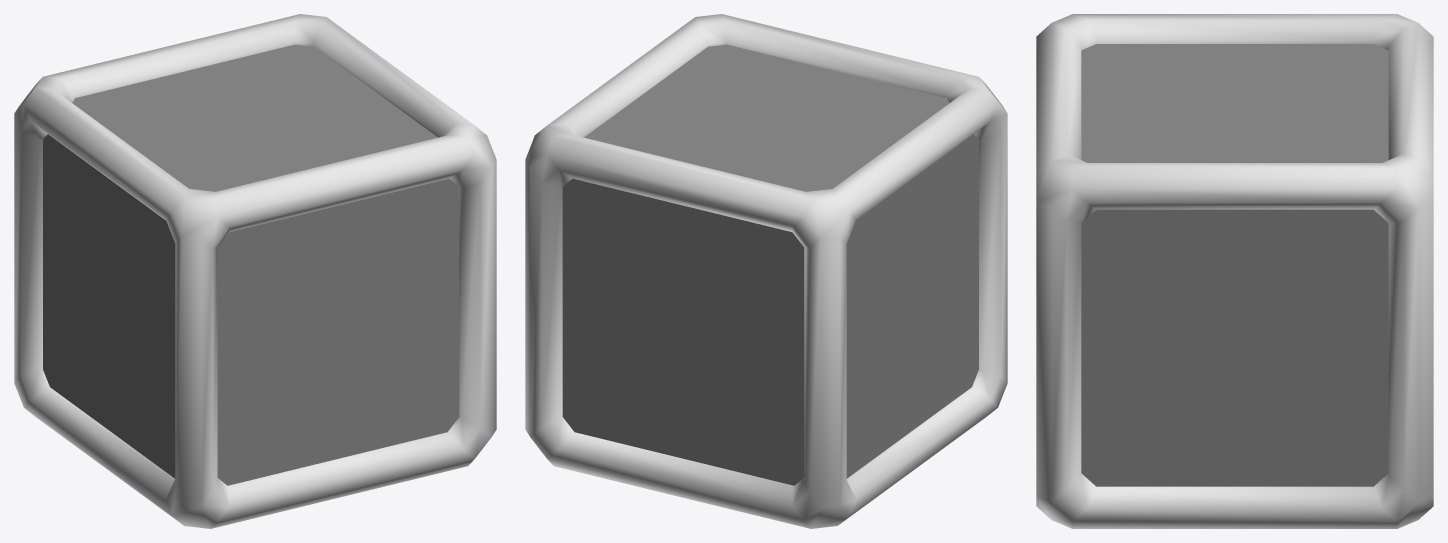
The model's file is block_metal_2.fbx.
3 views of the same model, side by side, from view 1: azimuth 30°, elevation 25°; view 2: azimuth 150°, elevation 25°; view 3: azimuth 270°, elevation 25° (orthographic). The views are drawn at different scales.
Parts seen in each view (by area): view 1: block_metal_2; view 2: block_metal_2; view 3: block_metal_2.
Part boxes in pixels (bbox=[...]): block_metal_2: bbox=[14, 14, 496, 528]; block_metal_2: bbox=[525, 14, 1007, 528]; block_metal_2: bbox=[1036, 14, 1433, 528].
Size of the model in its own units: 200 by 200 by 200.
